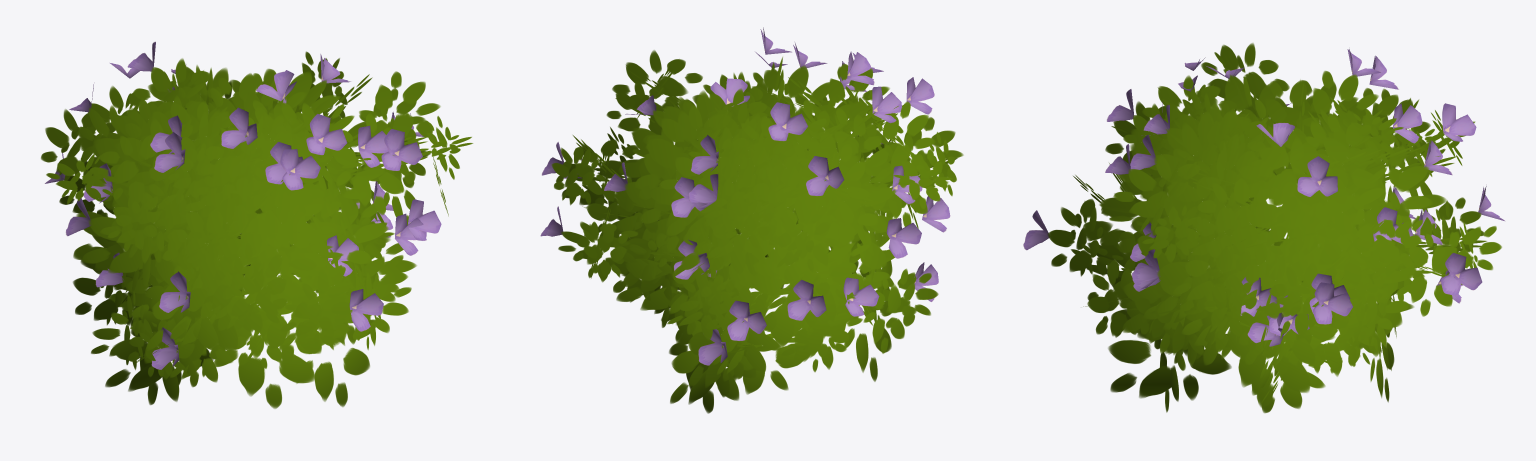
Rendered from bush-with-flowers-transformed.glb.
3 views of the same model, side by side, from view 1: azimuth 30°, elevation 25°; view 2: azimuth 150°, elevation 25°; view 3: azimuth 270°, elevation 25° (orthographic). The views are drawn at different scales.
Parts seen in each view (by area): view 1: Bush_Common_Flowers; view 2: Bush_Common_Flowers; view 3: Bush_Common_Flowers.
Boxes of the visible parts, x1,y1,x2,y2 form: Bush_Common_Flowers: (41,41,472,408); Bush_Common_Flowers: (540,27,963,413); Bush_Common_Flowers: (1023,43,1504,412).
Size of the model in its own units: 1.91 by 1.58 by 1.97.
2 materials, 2 textured.
